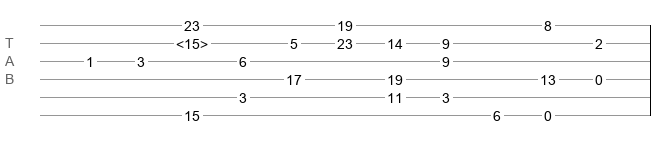0: (544, 108, 552, 118), (595, 72, 603, 82)
1: (86, 54, 94, 64)
11: (387, 90, 403, 100)
13: (540, 72, 556, 82)
14: (387, 36, 403, 46)
15: (184, 108, 200, 118)
17: (286, 72, 302, 82)
19: (337, 18, 353, 28), (387, 72, 403, 82)
2: (595, 36, 603, 46)
23: (184, 18, 200, 28), (337, 36, 353, 46)
3: (137, 54, 145, 64), (239, 90, 247, 100), (442, 90, 450, 100)
5: (290, 36, 298, 46)
6: (239, 54, 247, 64), (493, 108, 501, 118)
8: (544, 18, 552, 28)
9: (442, 54, 450, 64), (442, 36, 450, 46)
harmonic: (176, 36, 208, 46)
